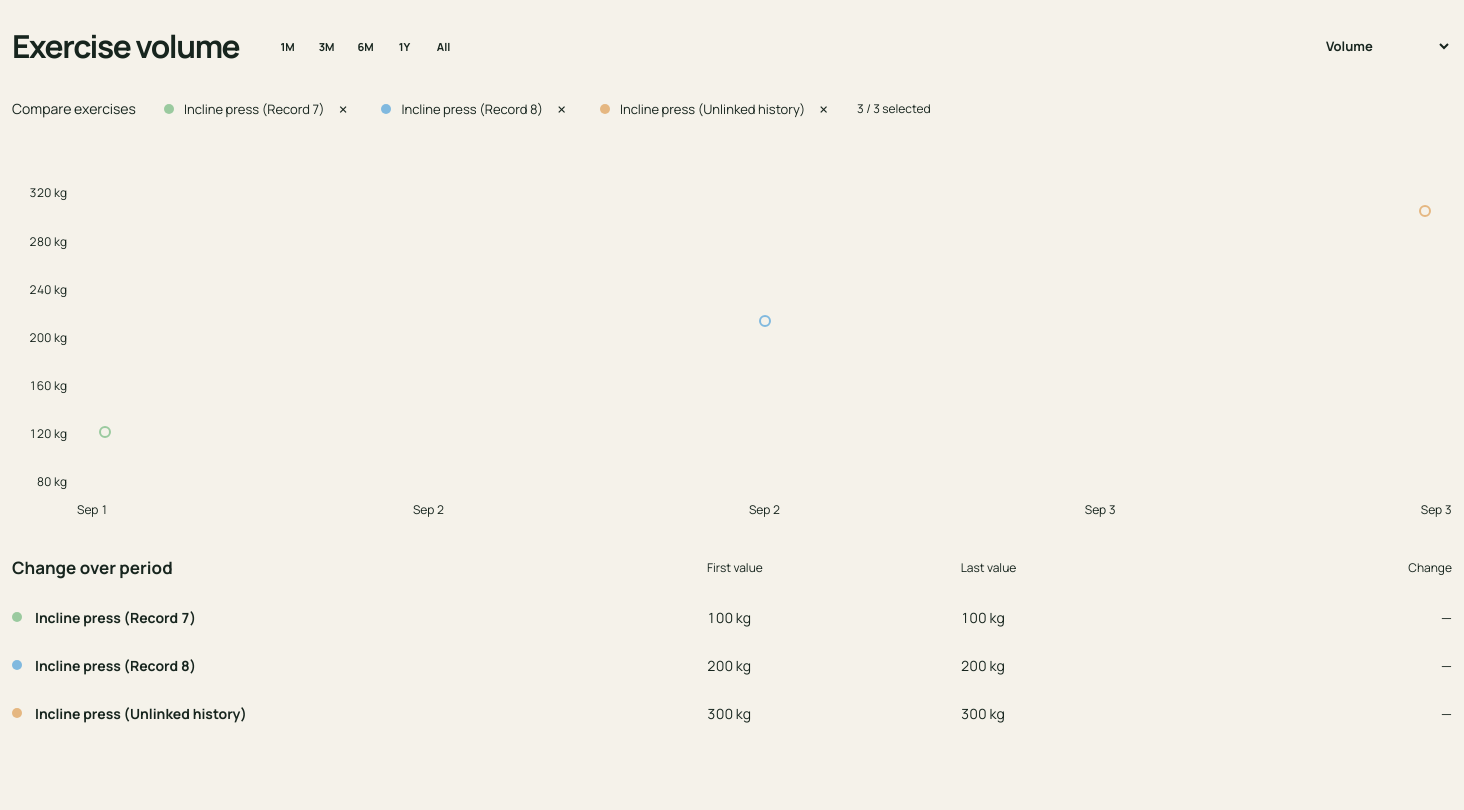
Test case: keeps distinct IDs and ambiguous legacy history separate with clear labels
Expected: the number of elements with class "analysis-chip" is 3, top-left (152, 89), bottom-right (360, 128); top-left (369, 89), bottom-right (579, 128); top-left (588, 89), bottom-right (841, 128)
Expected: the number of buttons with class "analysis-point" is 3, top-left (90, 417), bottom-right (120, 447); top-left (750, 306), bottom-right (780, 336); top-left (1410, 196), bottom-right (1440, 226)
Step 1. Click the button named "Remove Incline press (Record 8)" → (562,108), box top-left (553, 96), bottom-right (570, 122)
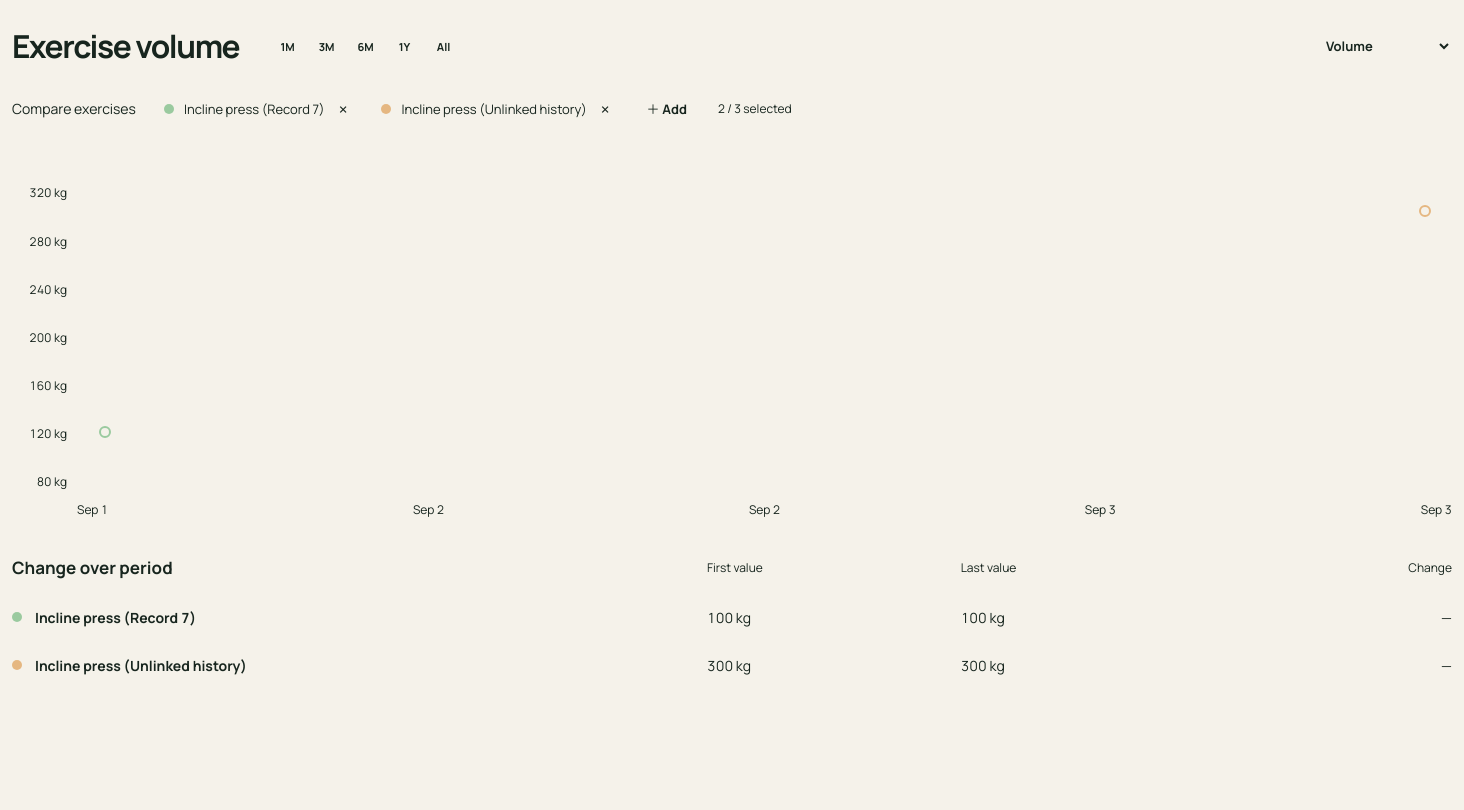
Step 2. Click the button "＋ Add" → (667,108), box top-left (632, 89), bottom-right (702, 128)
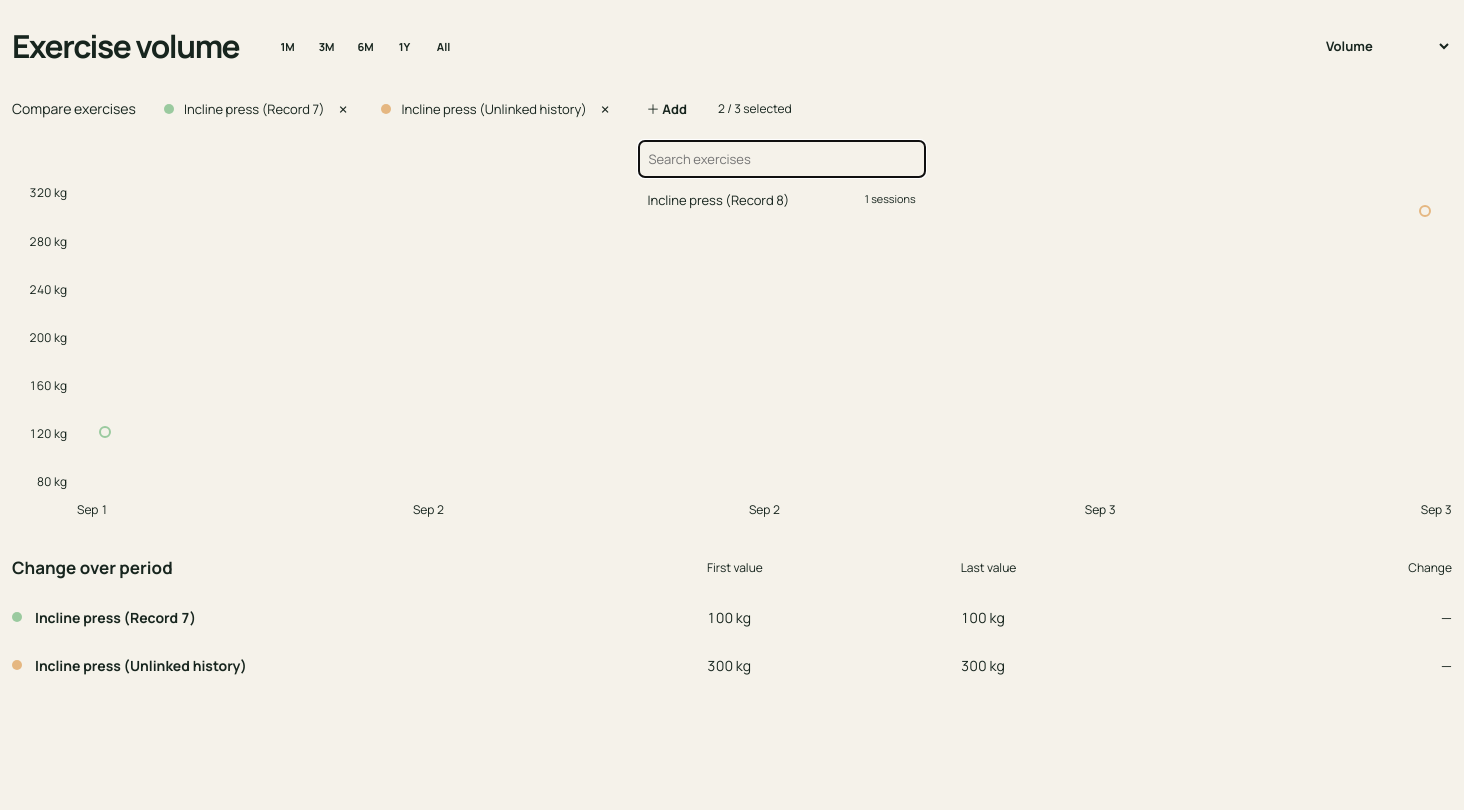
Result: the button "Incline press (Record 8) 1 sessions" is shown at top-left (639, 182), bottom-right (925, 218)
